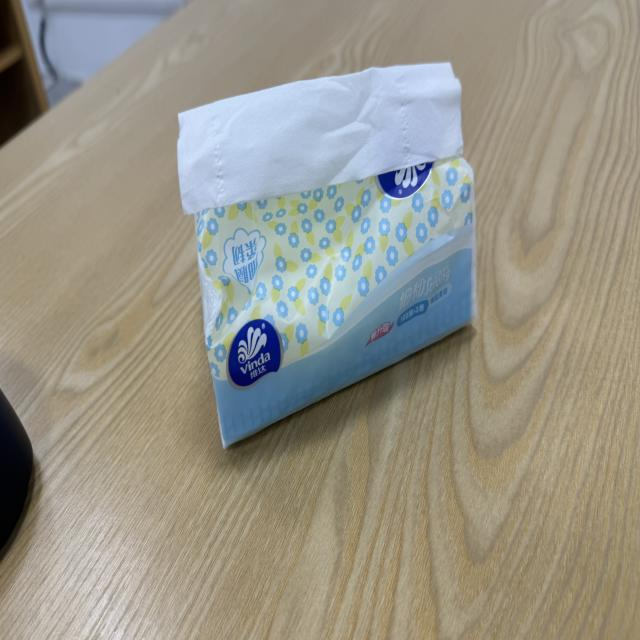tissue: (179, 65, 475, 446)
